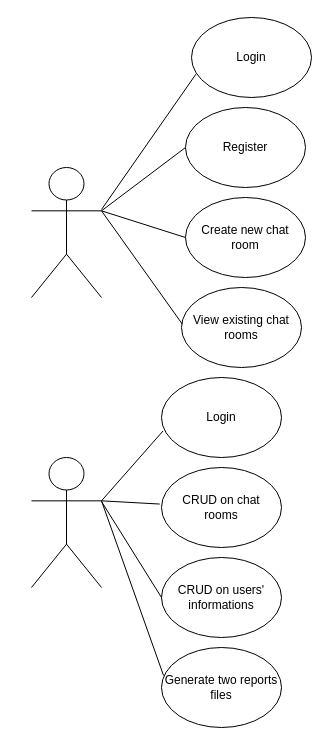
The diagram is 329 pixels wide and 745 high, and some of its shapes have lost their labels. Each missing label, with the centre of its shape:
ADMINISTRATOR: point (66, 522)
USER: point (66, 232)
